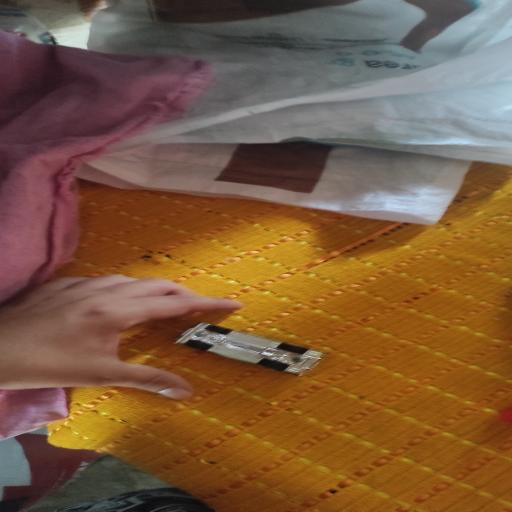Carrito: (176, 323, 323, 375)
